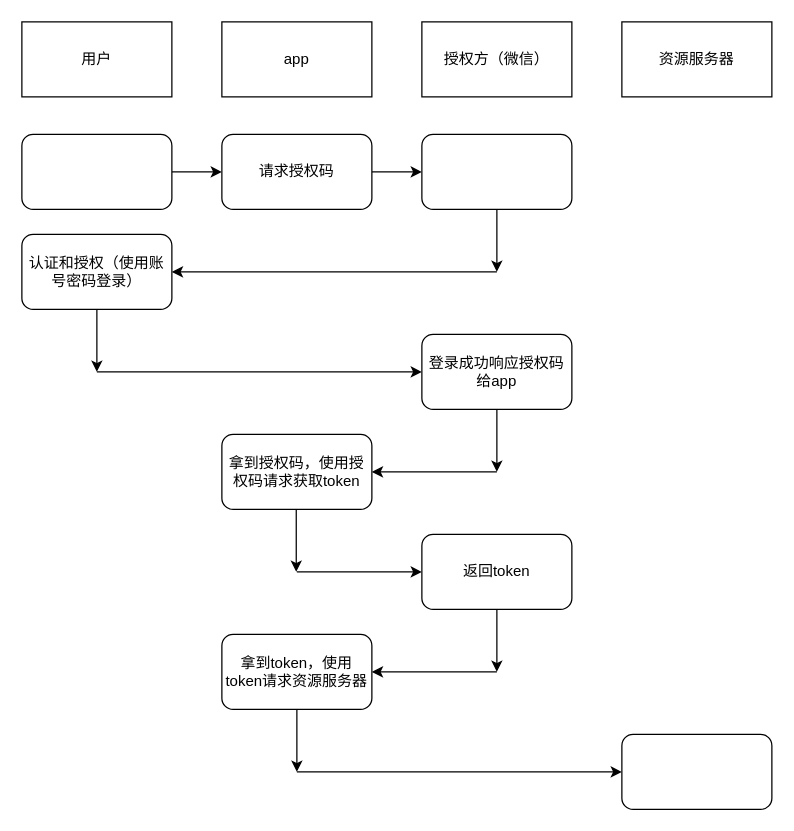
This 794x831 diagram has some shape labels left out. Here are the shapes that lost their labels. From the top down, the centre of each, then its label:
the point at 96,171: 点击登录
the point at 496,171: 响应请求，返回登录页面给用户
the point at 696,771: 返回资源给app
